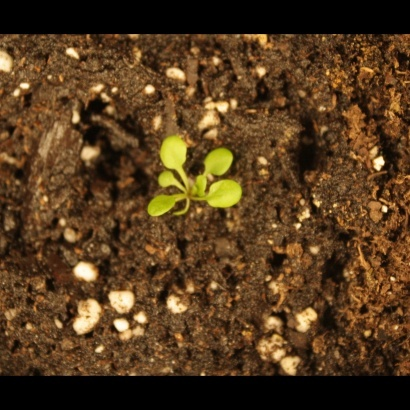leaf: (204, 176, 245, 212), (159, 133, 190, 175), (201, 143, 239, 176), (144, 190, 177, 220), (152, 168, 180, 194), (186, 174, 210, 199)
